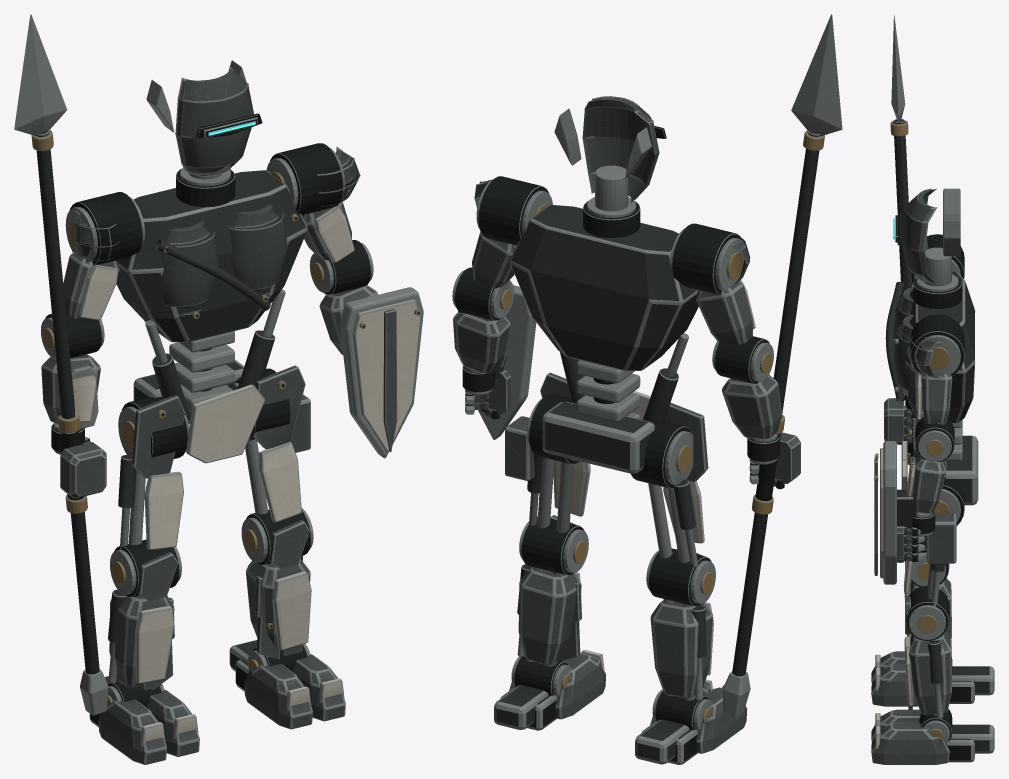
File: speed-t3-hunter.glb
3 views of the same model, side by side, from view 1: azimuth 30°, elevation 25°; view 2: azimuth 150°, elevation 25°; view 3: azimuth 270°, elevation 25° (orthographic). The views are drawn at different scales.
Visible parts, largest first — view 1: chest__metal, weaponR__metal, pelvis__metal, pelvis__clay, shieldL__clay, chest__clay, kneeL__clay, kneeR__clay, head__clay, ankleL__clay, ankleR__clay, shoulderR__metal (+18 smaller); view 2: chest__metal, pelvis__metal, weaponR__metal, kneeL__clay, head__clay, kneeR__clay, shoulderR__metal, ankleL__metal, ankleR__metal, kneeR__metal, shoulderL__metal, kneeL__metal (+19 smaller); view 3: chest__metal, ankleL__clay, kneeL__clay, pelvis__metal, shieldL__metal, weaponR__metal, kneeL__metal, shoulderL__metal, shoulderL__clay, head__metal, ankleL__metal, head__clay (+16 smaller).
Boxes of the visible parts, x1,y1,x2,y2 form: chest__metal: (116,167,307,342); weaponR__metal: (14,14,108,715); pelvis__metal: (118,289,291,458); pelvis__clay: (131,365,305,478); shieldL__clay: (352,299,420,452); chest__clay: (159,204,287,315); kneeL__clay: (246,520,311,659); kneeR__clay: (109,552,177,689); head__clay: (175,66,253,176); ankleL__clay: (244,654,345,729); ankleR__clay: (98,689,199,764); shoulderR__metal: (65,192,144,265); chest__metal: (510,197,698,370); pelvis__metal: (527,333,693,488); weaponR__metal: (723,14,842,717); kneeL__clay: (518,515,581,665); head__clay: (582,96,659,202); kneeR__clay: (650,549,713,697); shoulderR__metal: (670,223,747,341); ankleL__metal: (494,656,571,730); ankleR__metal: (635,689,712,764); kneeR__metal: (646,548,715,700); shoulderL__metal: (476,176,552,245); kneeL__metal: (517,516,588,666); chest__metal: (885,271,975,423); ankleL__clay: (871,709,949,764); kneeL__clay: (904,596,951,714); pelvis__metal: (908,409,978,525); shieldL__metal: (874,441,918,584); weaponR__metal: (890,14,912,465); kneeL__metal: (905,585,949,718); shoulderL__metal: (910,314,964,424); shoulderL__clay: (906,334,952,424); head__metal: (893,188,960,286); ankleL__metal: (919,709,994,762); head__clay: (901,188,937,283).
Bounding box in the file's own units: 2.81 × 5.14 × 0.9089.
11 materials, 10 textured.
